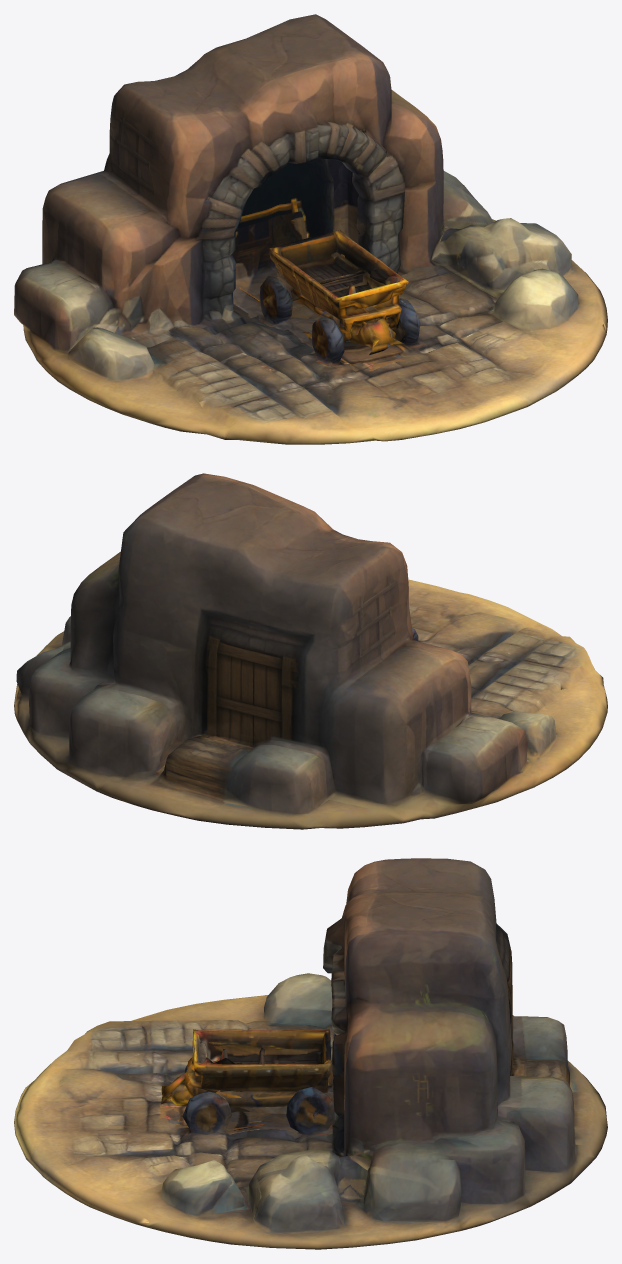
File: Metal_Mineshaft.fbx
3 renders of one model, top to bottom at view 1: azimuth 30°, elevation 25°; view 2: azimuth 150°, elevation 25°; view 3: azimuth 270°, elevation 25°, orthographic.
Visible parts, largest first — view 1: Mesh1_Mesh1.006; view 2: Mesh1_Mesh1.006; view 3: Mesh1_Mesh1.006.
Part boxes in pixels (box(x1,y1,x2,y2)): Mesh1_Mesh1.006: box(14, 14, 607, 444); Mesh1_Mesh1.006: box(14, 473, 607, 829); Mesh1_Mesh1.006: box(14, 858, 607, 1249).
Bounding box in the file's own units: 46.27 × 20 × 46.11.
1 material, 1 textured.
